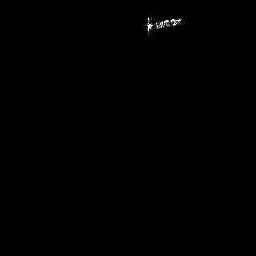ship: (141, 13, 186, 35)
